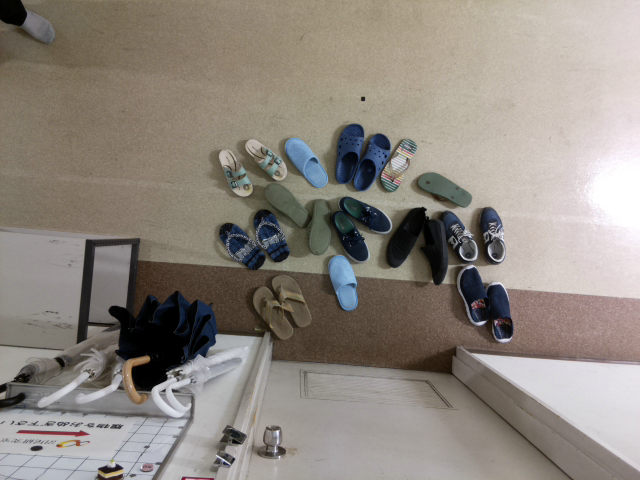Copy of Copy of Copy of Copy of Copy of Copy of Copy of sandal: (218, 221, 265, 270)
Copy of Copy of Copy of Copy of Copy of Copy of sandal: (252, 208, 289, 262)
Copy of Copy of Copy of Copy of Copy of sandal: (251, 285, 293, 340)
Copy of Copy of Copy of Copy of Copy of slipper: (307, 199, 332, 255)
Copy of Copy of Copy of Copy of sandal: (270, 274, 312, 328)
Copy of Copy of Copy of Copy of shoe: (332, 209, 370, 263)
Copy of Copy of Copy of Copy of slipper: (263, 182, 311, 228)
Copy of Copy of Copy of sandal: (416, 171, 472, 209)
Copy of Copy of Copy of shoe: (336, 195, 392, 234)
Copy of Copy of Copy of slipper: (327, 253, 359, 311)
Copy of Copy of sandal: (380, 137, 417, 192)
Copy of Copy of shoe: (422, 216, 451, 286)
Copy of Copy of slipper: (285, 138, 328, 188)
Copy of sandal: (243, 138, 287, 181)
Copy of shoe: (385, 206, 427, 268)
Copy of slipper: (351, 133, 391, 191)
sandal: (218, 148, 254, 198)
shoe: (438, 209, 477, 262), (456, 264, 489, 326), (483, 281, 514, 342), (477, 205, 507, 265)
slipper: (334, 123, 366, 184)
